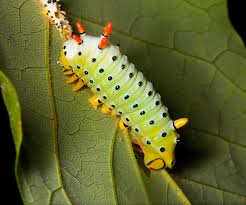Caterpillar: (58, 20, 188, 173)
